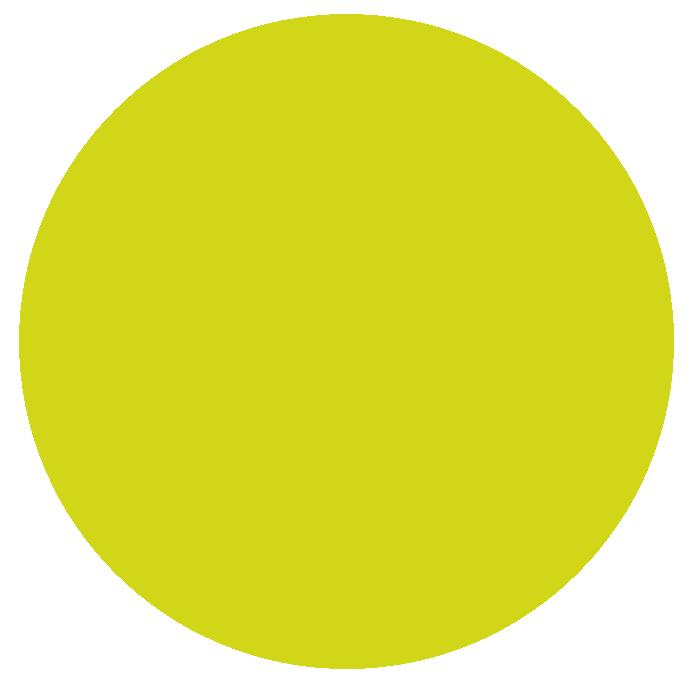yellow_circle: (0, 0, 693, 678)
